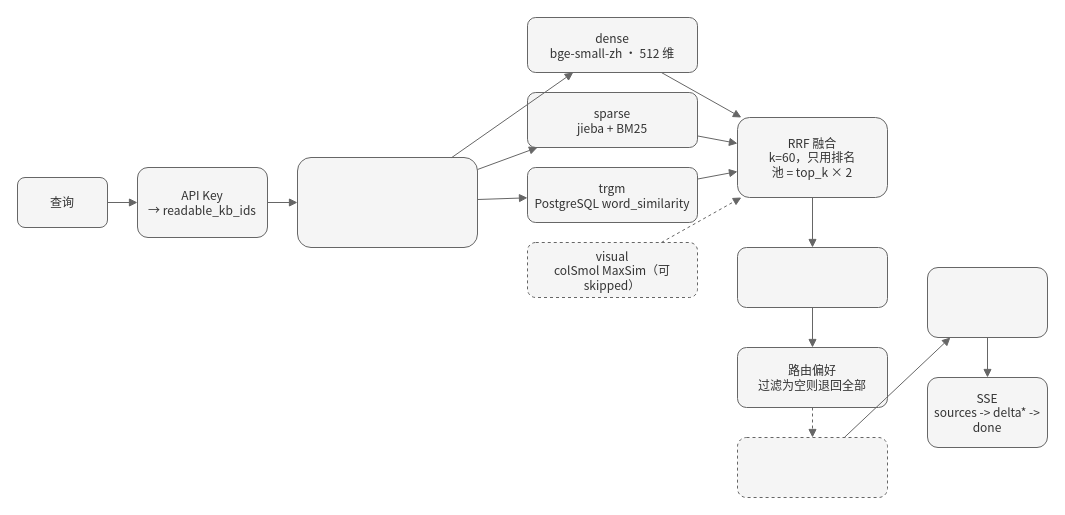
The diagram is 1065 pixels wide and 515 high, and some of its shapes have lost their labels. Each missing label, with the centre of its shape:
查询路由 photo / scan / table / chat / date 置信度低于 0.35 不路由: point (387, 202)
精排（按库开启） 不可用保持原序: point (812, 467)
证据组装 去重 · 父块 · 原文顺序: point (987, 302)
软删二次过滤 is_current + deleted_at: point (812, 277)
